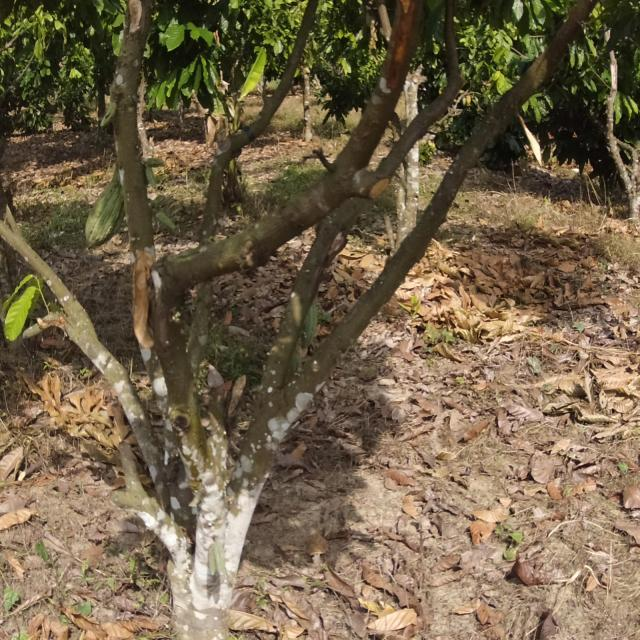Immature: (140, 154, 169, 196), (99, 101, 123, 139), (154, 212, 180, 238)
Mature_Unripe: (85, 173, 138, 255)
